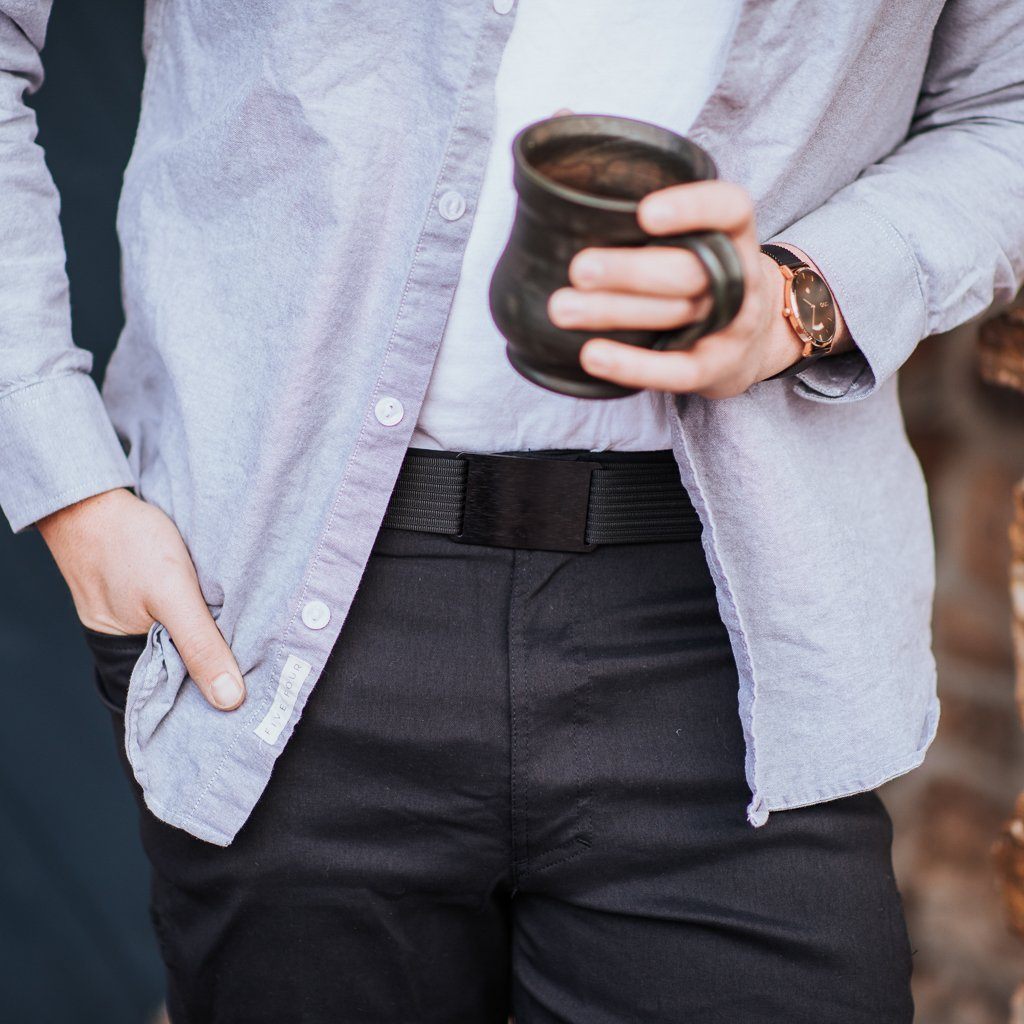F_belt: (357, 420, 739, 561)
F_dress pants: (90, 431, 947, 1024)
